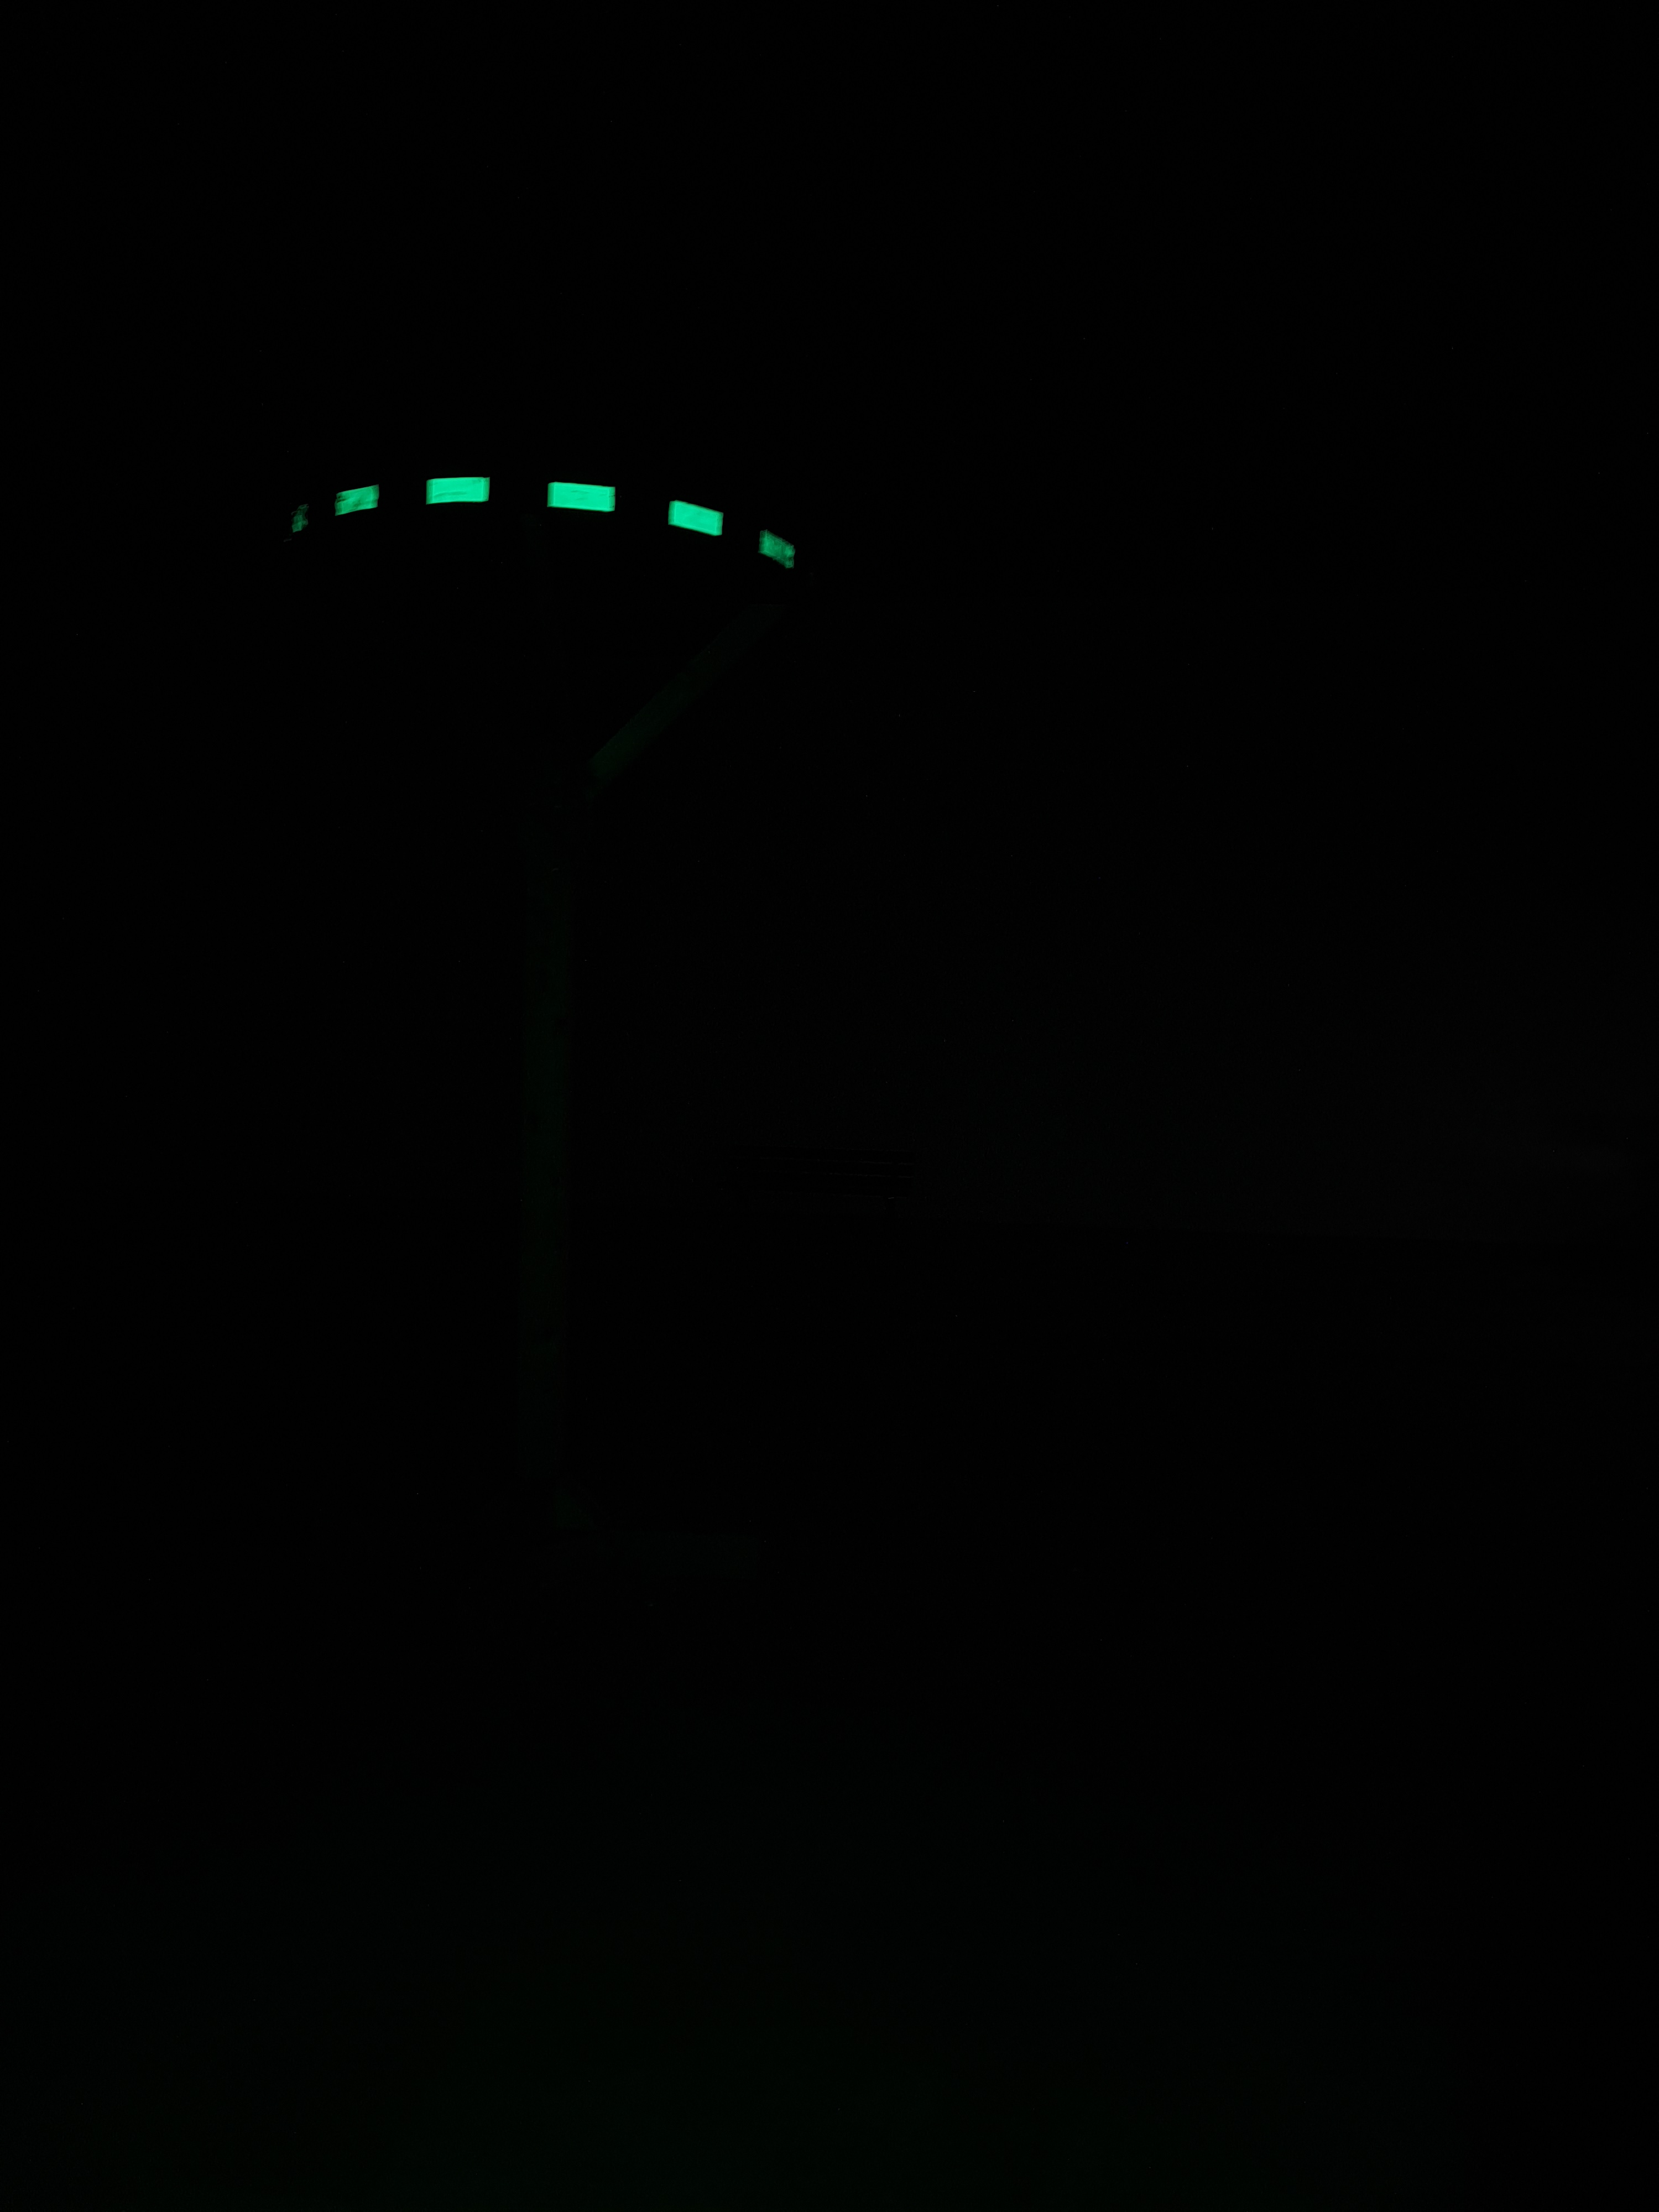hoop: (284, 467, 800, 585)
